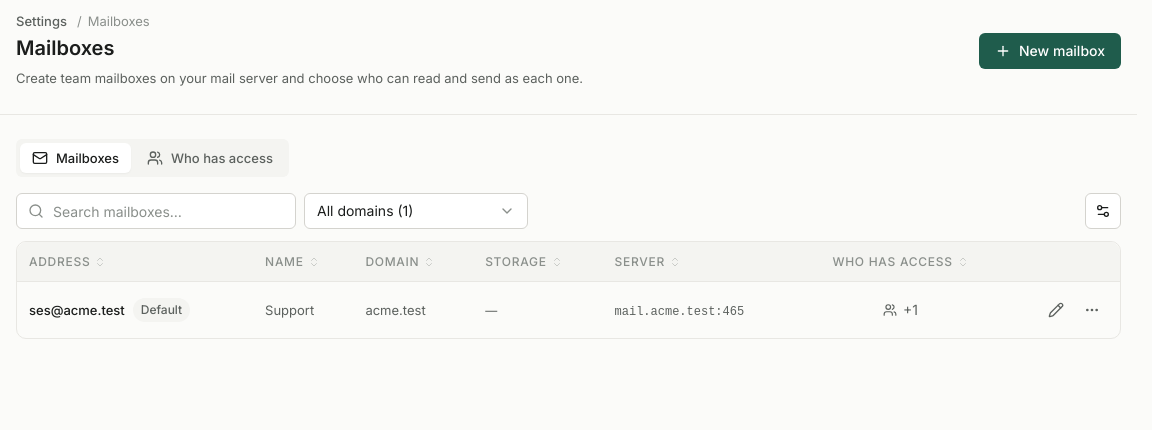
Test: Mailboxes › offers no mail-server actions for a hand-added sending account
Expected: the text "ses@acme.test" is shown, [29,301,125,319]
Expected: the text "+1" is shown, [883,300,918,320]
Click the button named "More actions for ses@acme.test" at (1092, 310), box [1076,294,1108,326]
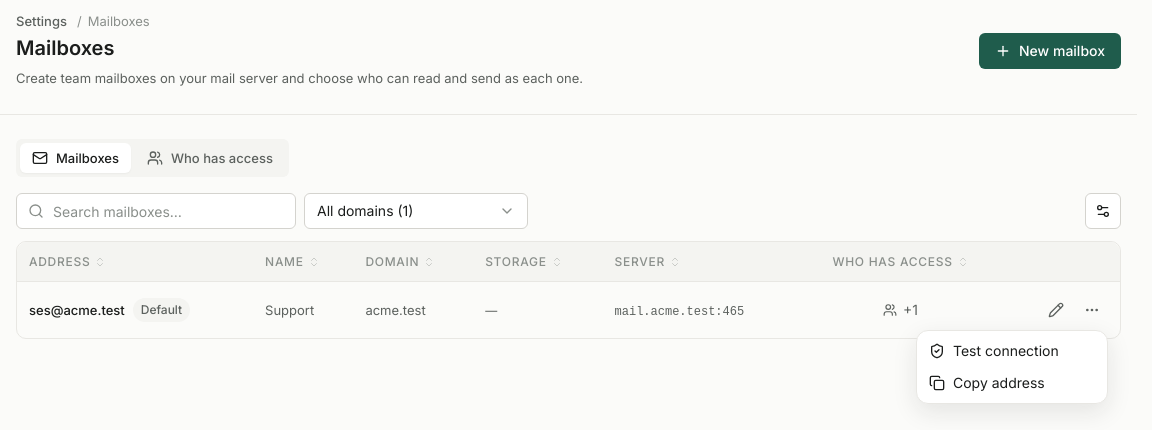
Expected: the menu item "Copy address" is shown, [929,374,1045,391]
